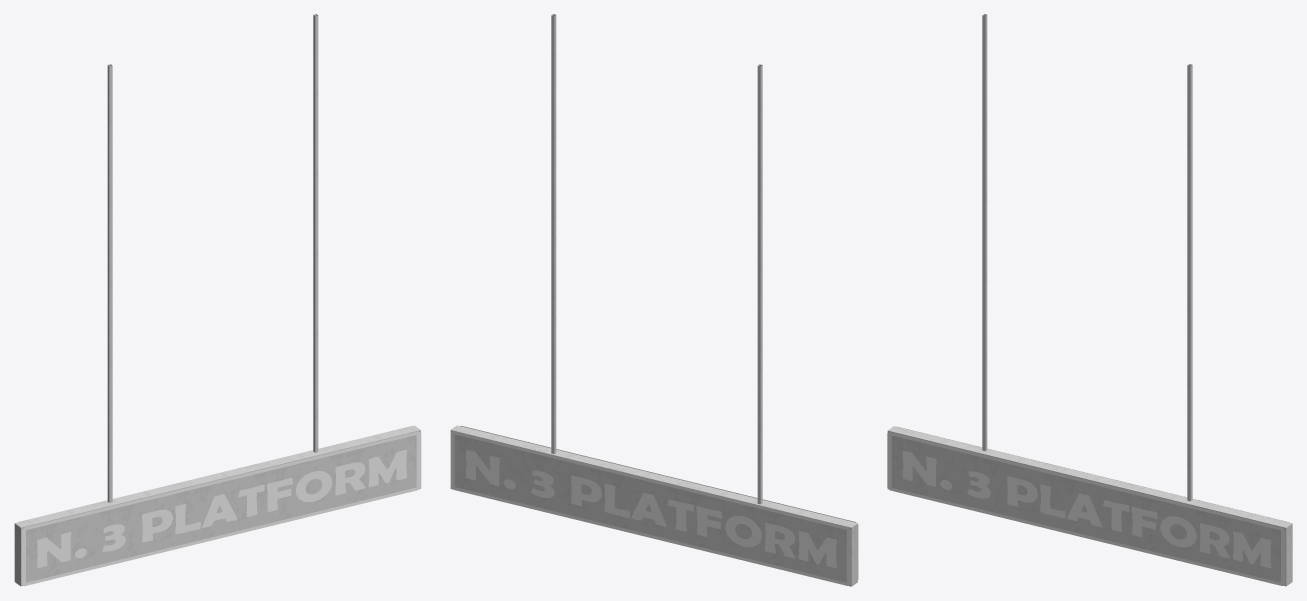
File: Sign_C.fbx
3 views of the same model, side by side, from view 1: azimuth 30°, elevation 25°; view 2: azimuth 150°, elevation 25°; view 3: azimuth 330°, elevation 25° (orthographic).
Parts seen in each view (by area): view 1: Sign_C; view 2: Sign_C; view 3: Sign_C.
Boxes of the visible parts, x1=… form: Sign_C: x1=14, y1=14, x2=421, y2=586; Sign_C: x1=450, y1=14, x2=858, y2=586; Sign_C: x1=887, y1=14, x2=1292, y2=586.
Size of the model in its own units: 521 by 617 by 16.21.
Materials: 3 (3 with a texture image).
